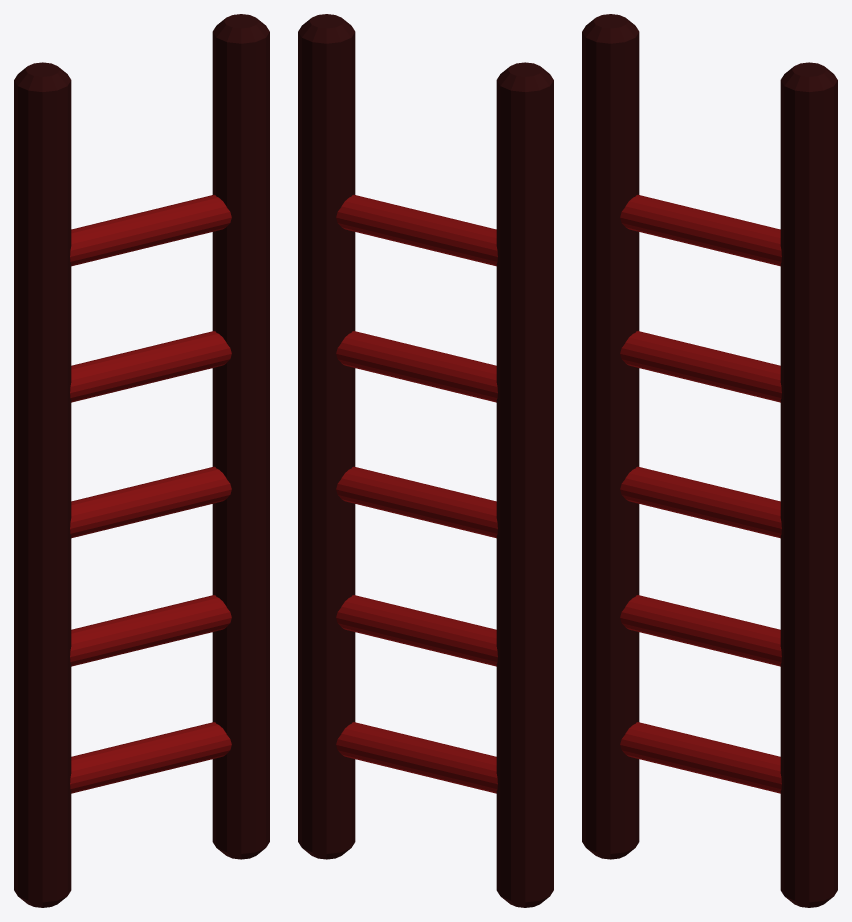
Rendered from Ladder.fbx.
3 views of the same model, side by side, from view 1: azimuth 30°, elevation 25°; view 2: azimuth 150°, elevation 25°; view 3: azimuth 330°, elevation 25° (orthographic).
Parts seen in each view (by area): view 1: ChamferCyl001; view 2: ChamferCyl001; view 3: ChamferCyl001.
Boxes of the visible parts, bbox=[...] form: ChamferCyl001: bbox=[14, 14, 269, 907]; ChamferCyl001: bbox=[298, 14, 553, 907]; ChamferCyl001: bbox=[582, 14, 837, 907].
Size of the model in its own units: 250 by 50 by 800.
